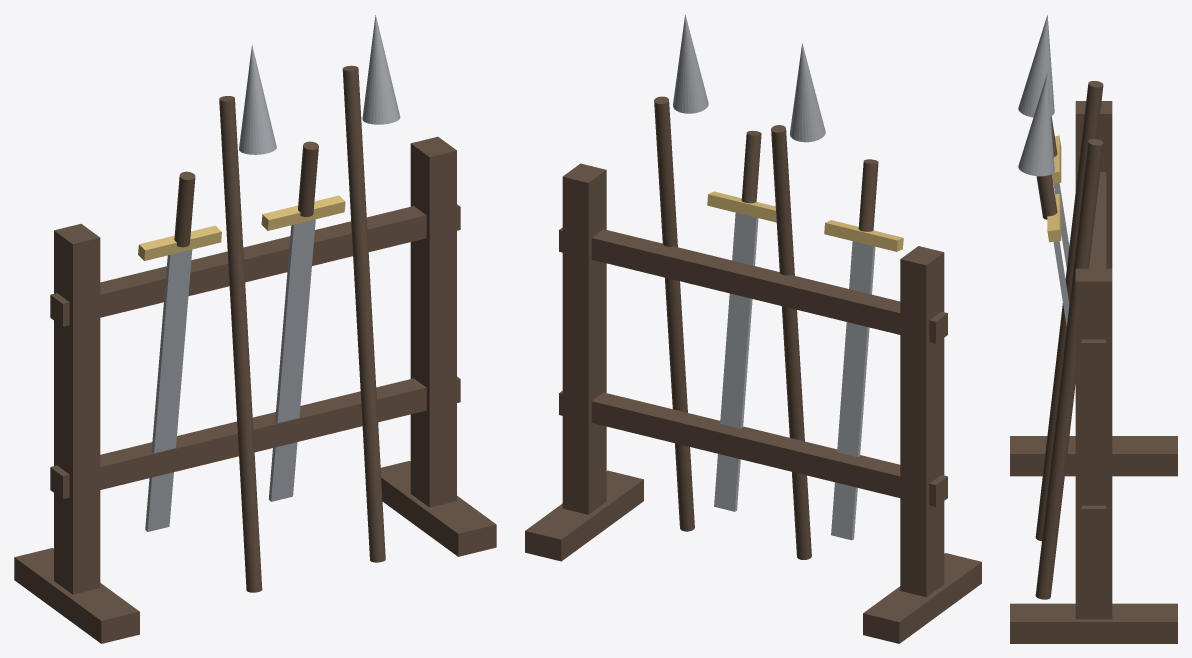
Rendered from dungeon_weapon_rack.glb.
3 views of the same model, side by side, from view 1: azimuth 30°, elevation 25°; view 2: azimuth 150°, elevation 25°; view 3: azimuth 270°, elevation 25° (orthographic). The views are drawn at different scales.
Parts seen in each view (by area): view 1: Cube, Cube.002, Cube.004, Cube.005, Cylinder.003, Cylinder.002, Cube.008, Cube.006, Cube.001, Cube.003, Cone.001, Cone (+4 smaller); view 2: Cube, Cube.002, Cube.005, Cube.004, Cylinder.003, Cylinder.002, Cube.008, Cube.006, Cube.003, Cube.001, Cone.001, Cone (+4 smaller); view 3: Cube.002, Cylinder.003, Cube.003, Cube.001, Cylinder.002, Cube, Cone.001, Cube.005, Cone, Cube.004, Cylinder.001, Cube.008 (+3 smaller).
Part boxes in pixels (box(x1,y1,x2,y2)): Cube: box(54, 224, 100, 594); Cube.002: box(410, 136, 456, 507); Cube.004: box(50, 376, 460, 498); Cube.005: box(50, 204, 460, 326); Cylinder.003: box(342, 65, 385, 562); Cylinder.002: box(219, 96, 262, 592); Cube.008: box(268, 219, 315, 501); Cube.006: box(145, 249, 192, 531); Cube.001: box(14, 548, 139, 643); Cube.003: box(380, 461, 496, 556); Cone.001: box(362, 15, 400, 124); Cone: box(239, 44, 276, 154); Cube: box(900, 246, 944, 597); Cube.002: box(562, 163, 606, 514); Cube.005: box(559, 227, 947, 343); Cube.004: box(559, 391, 947, 506); Cylinder.003: box(654, 96, 694, 531); Cylinder.002: box(771, 125, 811, 559); Cube.008: box(714, 212, 758, 511); Cube.006: box(831, 241, 875, 540); Cube.003: box(525, 470, 643, 561); Cube.001: box(863, 553, 981, 643); Cone.001: box(673, 15, 708, 113); Cone: box(790, 43, 825, 142); Cube.002: box(1075, 268, 1112, 619); Cylinder.003: box(1035, 139, 1103, 599); Cube.003: box(1010, 603, 1177, 643); Cube.001: box(1010, 436, 1177, 476); Cylinder.002: box(1035, 81, 1103, 541); Cube: box(1075, 101, 1112, 268); Cone.001: box(1018, 73, 1054, 176); Cube.005: box(1081, 172, 1106, 364); Cone: box(1018, 15, 1054, 117); Cube.004: box(1081, 505, 1106, 531); Cylinder.001: box(1036, 174, 1057, 219); Cube.008: box(1053, 241, 1069, 326).
Bounding box in the file's own units: 1.45 × 1.9 × 0.55.
